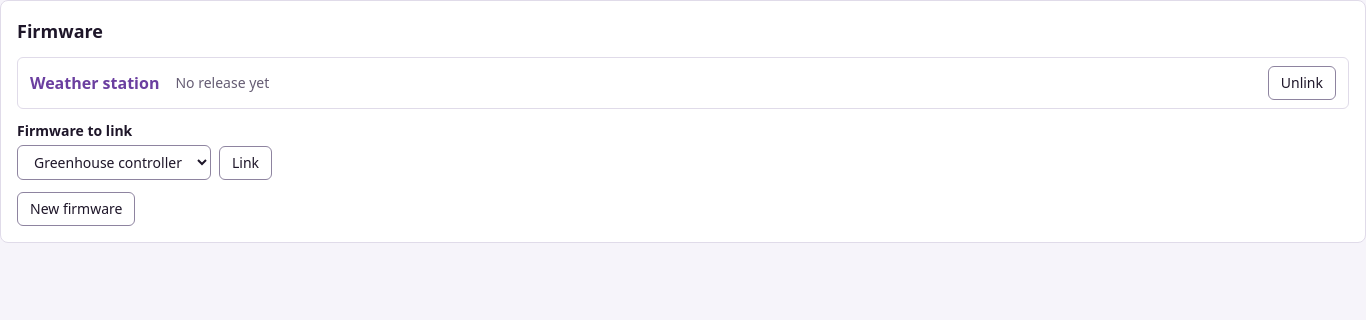
Scenario: RevisionFirmwareSection › links a firmware chosen from the others, and unlinks one
Expected: the link "Weather station" is shown, [30,71,159,95]
Select "Pico blink" in the dropdown labelled "Firmware to link". click: (114, 162)
box: [17,145,211,180]
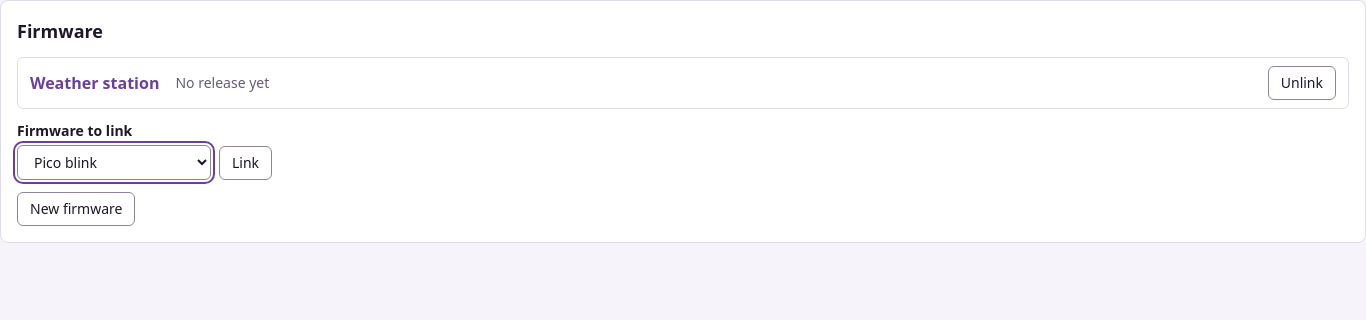
Click the button "Link". click: (246, 163)
box: [219,146,272,180]
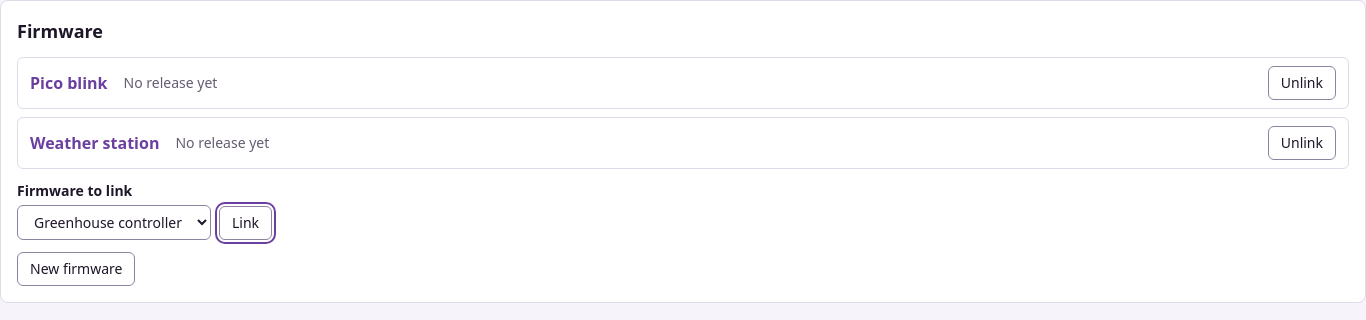
Now the link "Pico blink" is shown, box [30,71,108,95]
Click the button with aria-label "Unlink Weather station". click: (1302, 143)
box: [1268,126,1336,160]
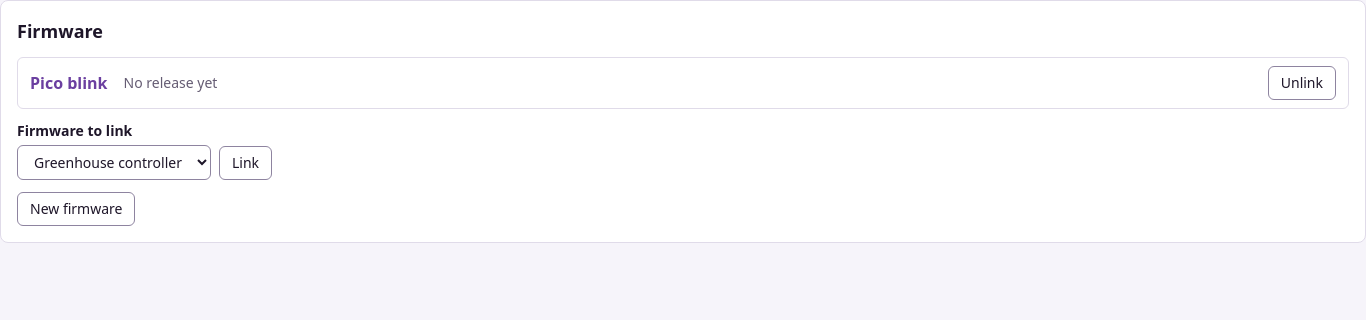
Now the link "Weather station" is gone
